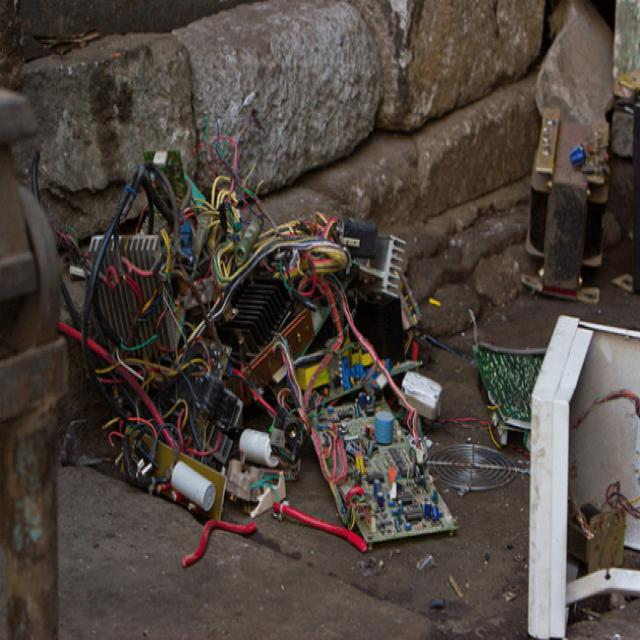heap: (95, 165, 429, 542)
